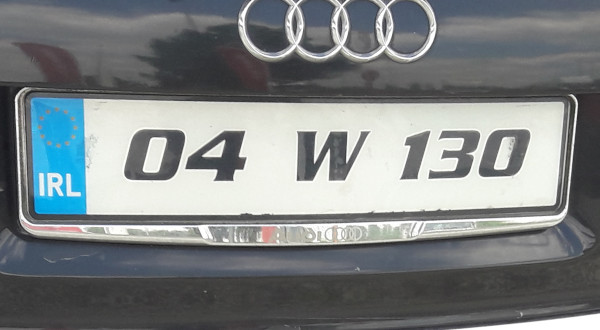license_plate: (24, 90, 575, 218)
